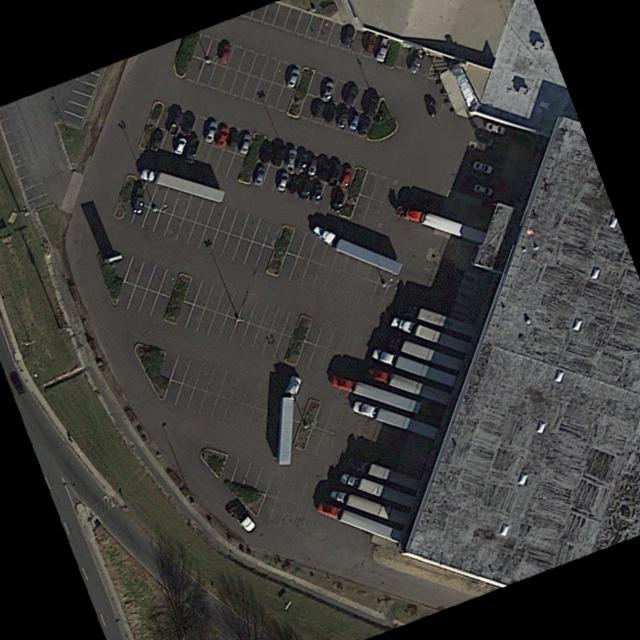large-vehicle: (307, 220, 406, 279), (331, 376, 422, 415), (354, 399, 440, 440), (318, 502, 403, 543), (396, 205, 487, 243), (367, 366, 452, 406), (372, 349, 457, 388), (140, 167, 227, 202), (391, 316, 470, 353), (330, 489, 410, 525), (275, 370, 303, 467), (340, 472, 416, 507), (391, 337, 463, 371), (348, 457, 421, 490), (407, 306, 476, 336)
small-vehicle: (405, 48, 428, 74), (327, 188, 347, 215), (183, 137, 202, 164), (216, 41, 234, 67), (168, 110, 185, 135), (203, 119, 219, 144), (269, 143, 285, 167), (374, 37, 390, 61), (364, 94, 380, 117), (214, 125, 229, 149), (180, 114, 197, 135), (344, 85, 361, 106), (340, 25, 356, 47), (472, 182, 494, 198), (484, 120, 507, 135), (295, 151, 310, 174), (340, 165, 355, 188), (356, 115, 372, 136), (285, 67, 301, 88), (310, 182, 325, 204), (133, 188, 145, 215), (424, 95, 438, 118), (11, 375, 27, 395), (335, 108, 351, 128), (149, 130, 164, 151), (226, 129, 240, 151), (284, 148, 298, 170), (299, 178, 313, 200), (321, 80, 336, 100), (276, 171, 290, 192), (252, 165, 266, 186), (311, 100, 327, 118), (471, 160, 493, 173), (364, 33, 379, 52), (330, 164, 344, 184), (239, 133, 252, 154), (173, 136, 187, 155), (324, 103, 338, 121), (348, 113, 362, 130), (308, 158, 320, 175)
